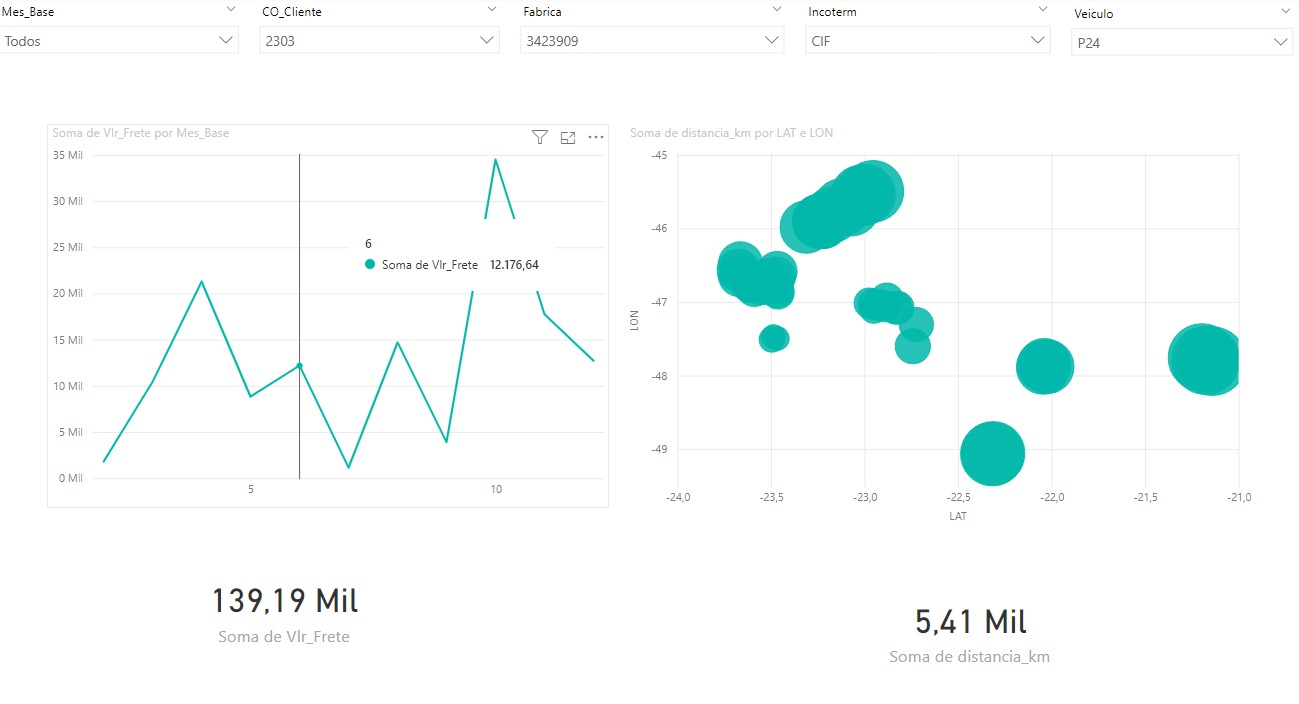

What the dashboard file says about the page in this screenshot:
{"tool":"powerbi","page":{"name":"Página 1","canvas":[1280,720],"ordinal":0},"visuals":[{"type":"lineChart","fields":{"Y":["Sum(api view_rota.Vlr_Frete)"],"Category":["api custototalcif.Mes_Base"]},"box":[57.4,123.5,546.6,373.5],"z":0},{"type":"slicer","fields":{"Values":["api custototalcif.Mes_Base"]},"box":[0,0,253.9,70],"z":1},{"type":"slicer","fields":{"Values":["api view_rota.CO_Cliente"]},"box":[253.9,0,253.9,72],"z":2},{"type":"slicer","fields":{"Values":["api view_fabrica.Fabrica"]},"box":[507.7,0,277.2,65.2],"z":3},{"type":"slicer","fields":{"Values":["api view_rota.Incoterm"]},"box":[784.9,0,258.7,61.3],"z":4},{"type":"slicer","fields":{"Values":["api ocupacaomensalveiculos.Veiculo"]},"box":[1043.6,1.9,236.4,63.2],"z":5},{"type":"card","fields":{"Values":["Sum(api view_rota.Vlr_Frete)"]},"box":[158.5,526.2,258.7,137.1],"z":6},{"type":"scatterChart","fields":{"X":["api view_cliente.LAT"],"Y":["api view_cliente.LON"],"Size":["Sum(api distancia_cliente_fabrica.distancia_km)"]},"box":[619.6,123.5,613.7,392.9],"z":7},{"type":"card","fields":{"Values":["Sum(api distancia_cliente_fabrica.distancia_km)"]},"box":[855.9,539.8,198.4,149.8],"z":8}]}

Visuals, with their boxes on the page's 1280x720 design canvas (x1, y1, x2, y2). These are canvas units, not pixel positions in the 1299x704 screenshot, which may show the page scaled, cropped or inside an application window:
lineChart - Sum(api view_rota.Vlr_Frete) x api custototalcif.Mes_Base: box=[57, 124, 604, 497]
slicer - api custototalcif.Mes_Base: box=[0, 0, 254, 70]
slicer - api view_rota.CO_Cliente: box=[254, 0, 508, 72]
slicer - api view_fabrica.Fabrica: box=[508, 0, 785, 65]
slicer - api view_rota.Incoterm: box=[785, 0, 1044, 61]
slicer - api ocupacaomensalveiculos.Veiculo: box=[1044, 2, 1280, 65]
card - Sum(api view_rota.Vlr_Frete): box=[158, 526, 417, 663]
scatterChart - api view_cliente.LAT x api view_cliente.LON: box=[620, 124, 1233, 516]
card - Sum(api distancia_cliente_fabrica.distancia_km): box=[856, 540, 1054, 690]
